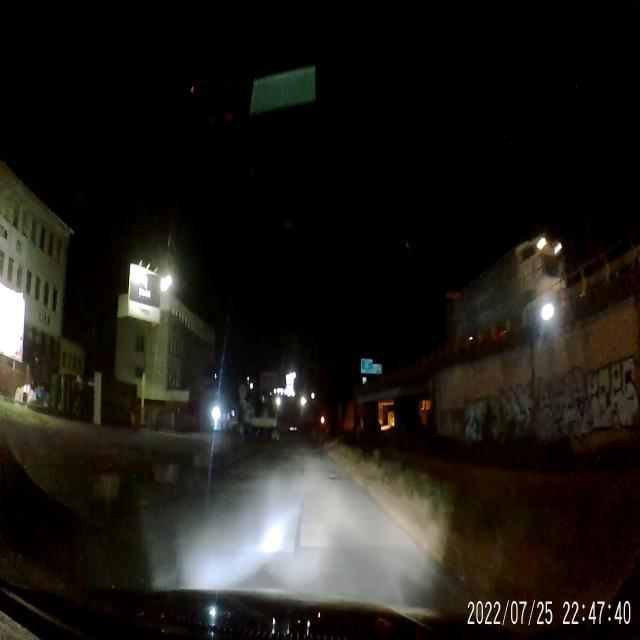Pothole: (324, 472, 344, 485)
